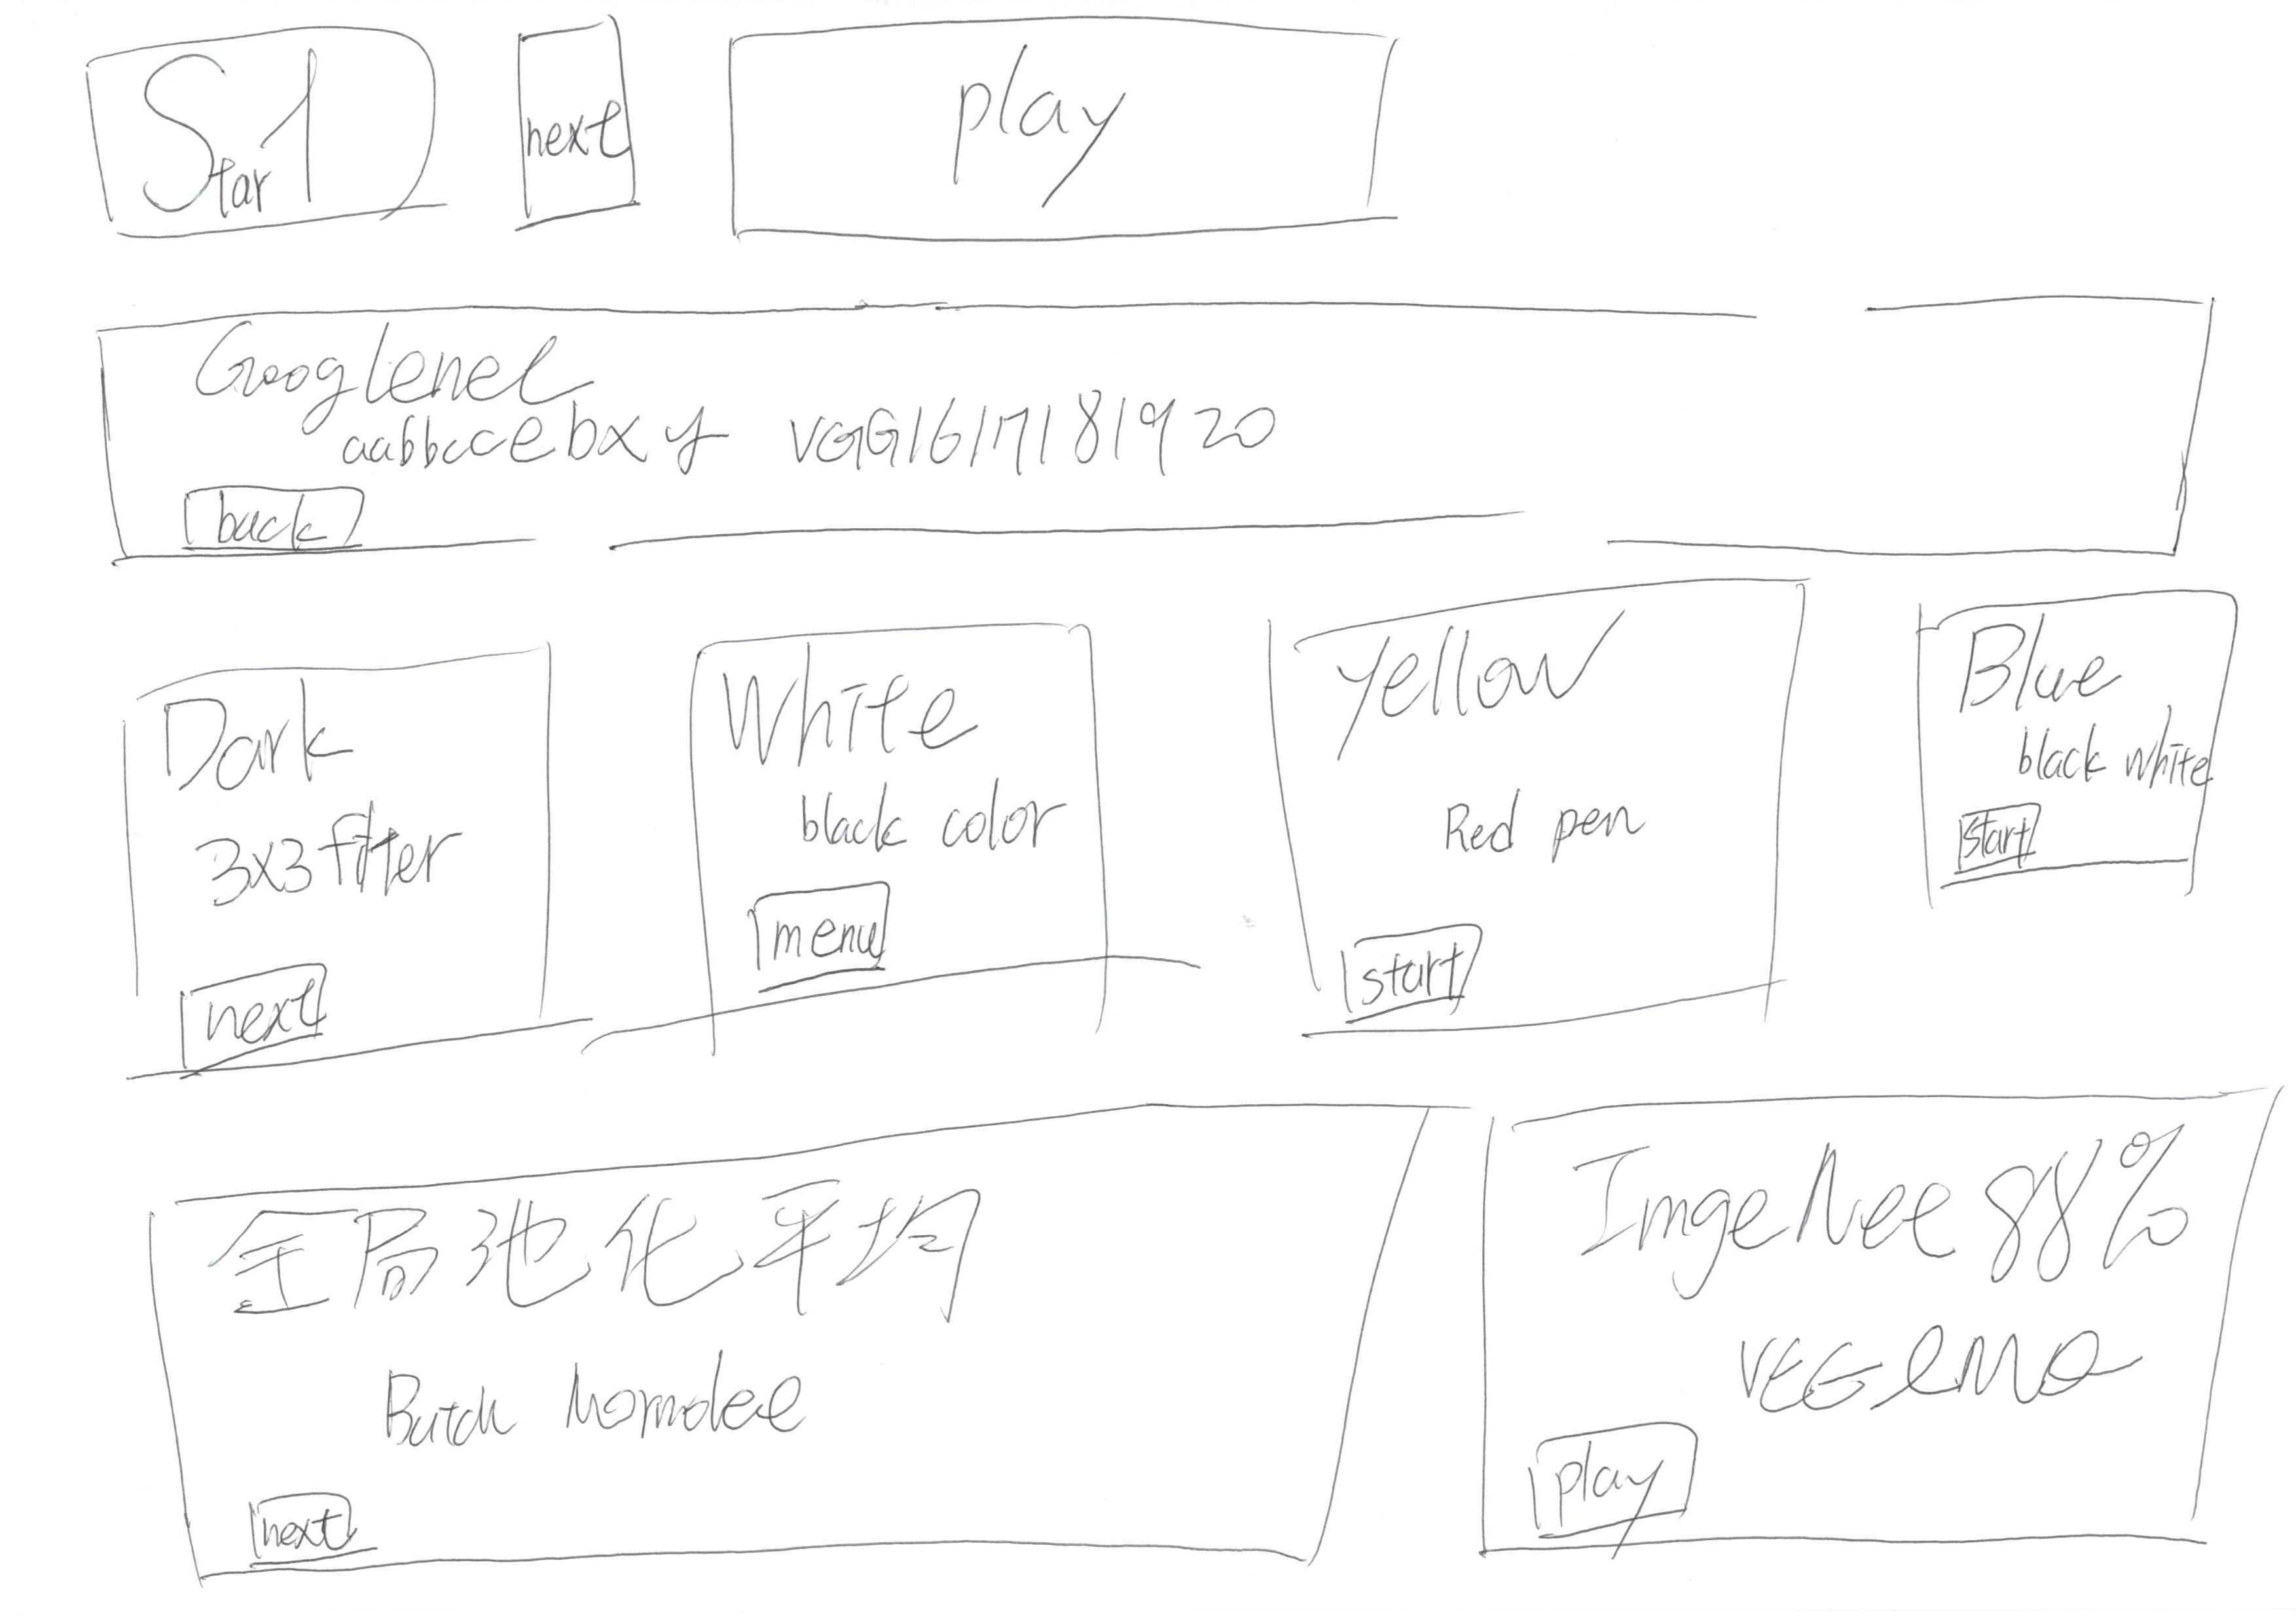back: (155, 459, 424, 582)
double: (121, 1095, 1456, 1613), (1461, 1090, 2296, 1608)
menu: (726, 866, 905, 1011)
next: (503, 11, 656, 255), (153, 956, 357, 1083), (229, 1473, 390, 1575)
play: (703, 11, 1443, 265), (1514, 1413, 1758, 1564)
quadruple: (1224, 545, 1869, 1076), (79, 613, 624, 1125), (622, 592, 1166, 1104), (1878, 564, 2289, 988)
row: (9, 548, 2296, 1109), (9, 1063, 2296, 1624), (9, 234, 2296, 568), (0, 0, 2194, 276)
single: (56, 262, 2252, 591)
small-title: (1552, 1137, 2194, 1280), (216, 1193, 967, 1301), (1317, 629, 1626, 736), (185, 327, 584, 406), (738, 650, 970, 772), (162, 698, 389, 807), (1953, 615, 2127, 714)
start: (35, 11, 452, 244), (1320, 902, 1493, 1025), (1934, 798, 2059, 896)
text: (302, 395, 1278, 459), (1689, 1306, 2136, 1415), (385, 1360, 842, 1450), (777, 759, 1079, 868), (1422, 784, 1667, 886), (223, 807, 475, 898), (1990, 724, 2206, 791)
